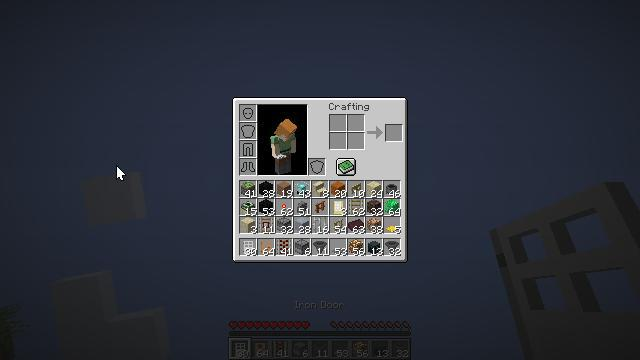cursor: (165, 116, 181, 126)
